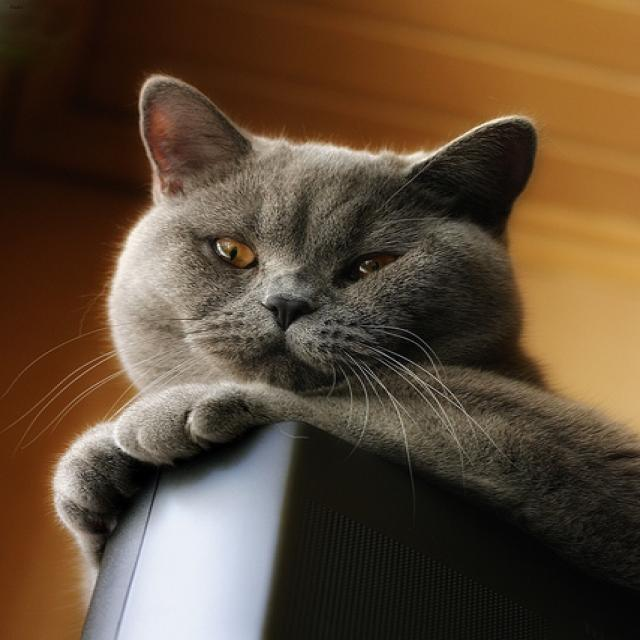cat: (105, 73, 534, 389)
